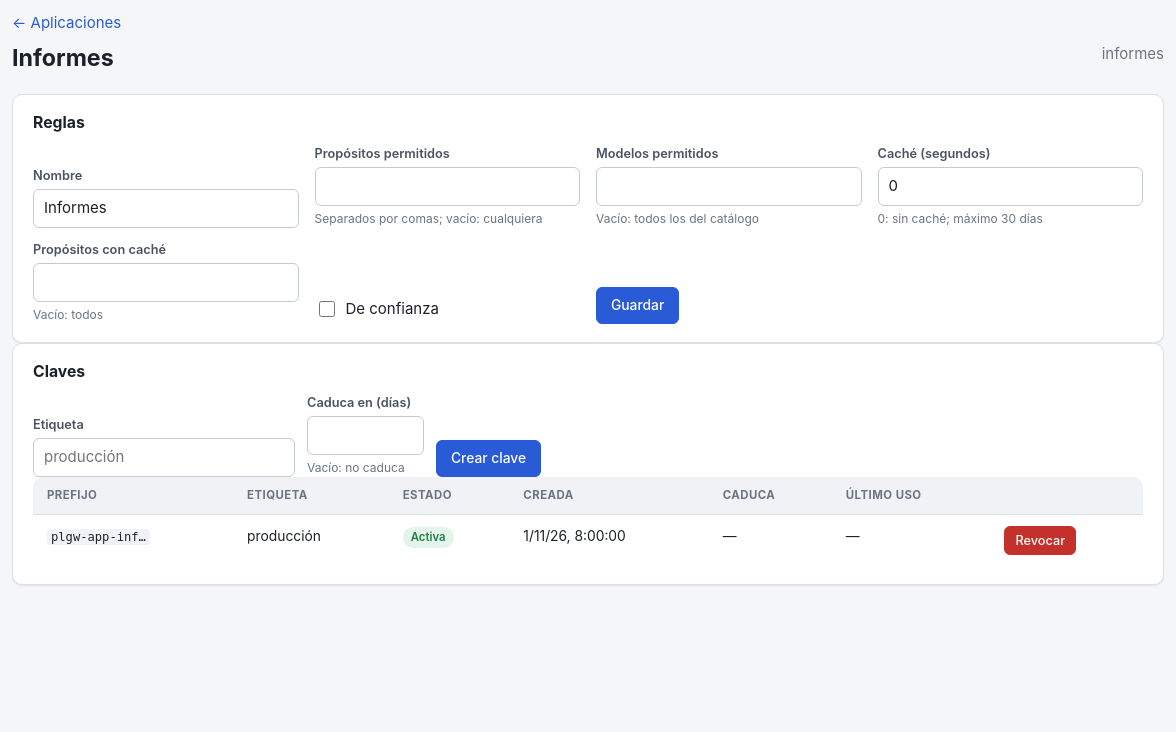
Test: detalle de una aplicación › revocar pide confirmación
This screenshot has width=1176, height=732.
Click the button "Revocar". click: (1040, 540)
box: [1004, 526, 1076, 555]
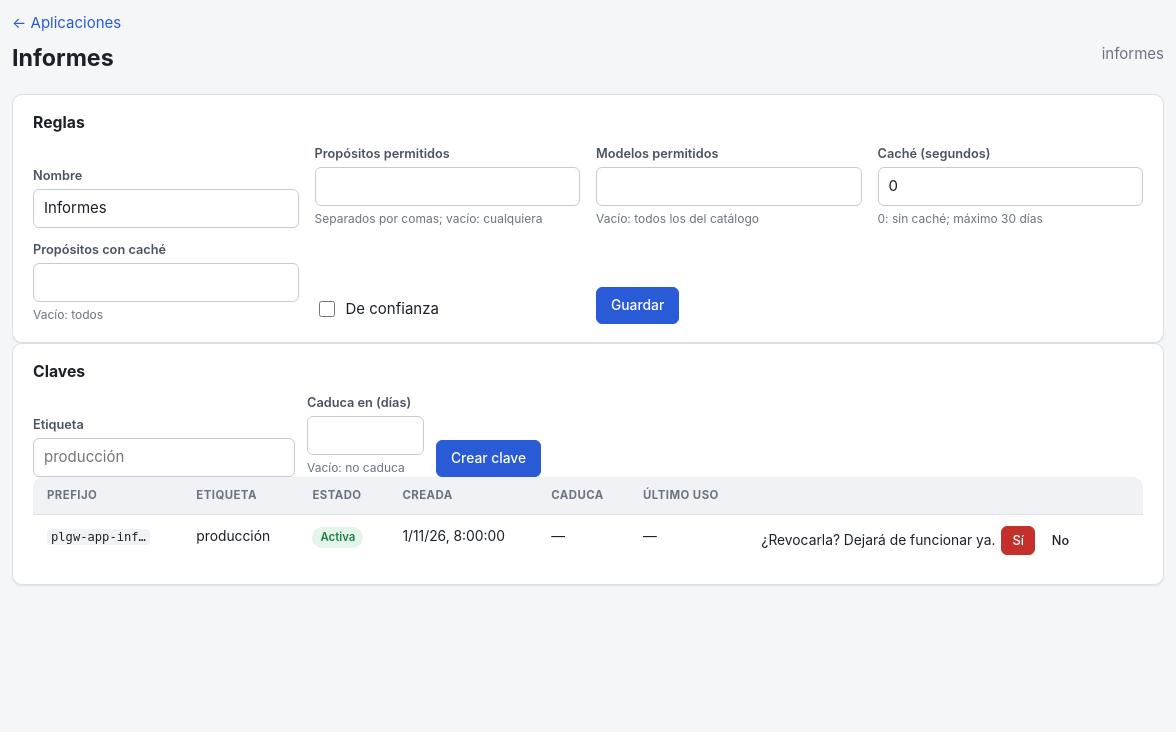
Click the button "Sí". click: (1018, 540)
box: [1001, 526, 1035, 555]
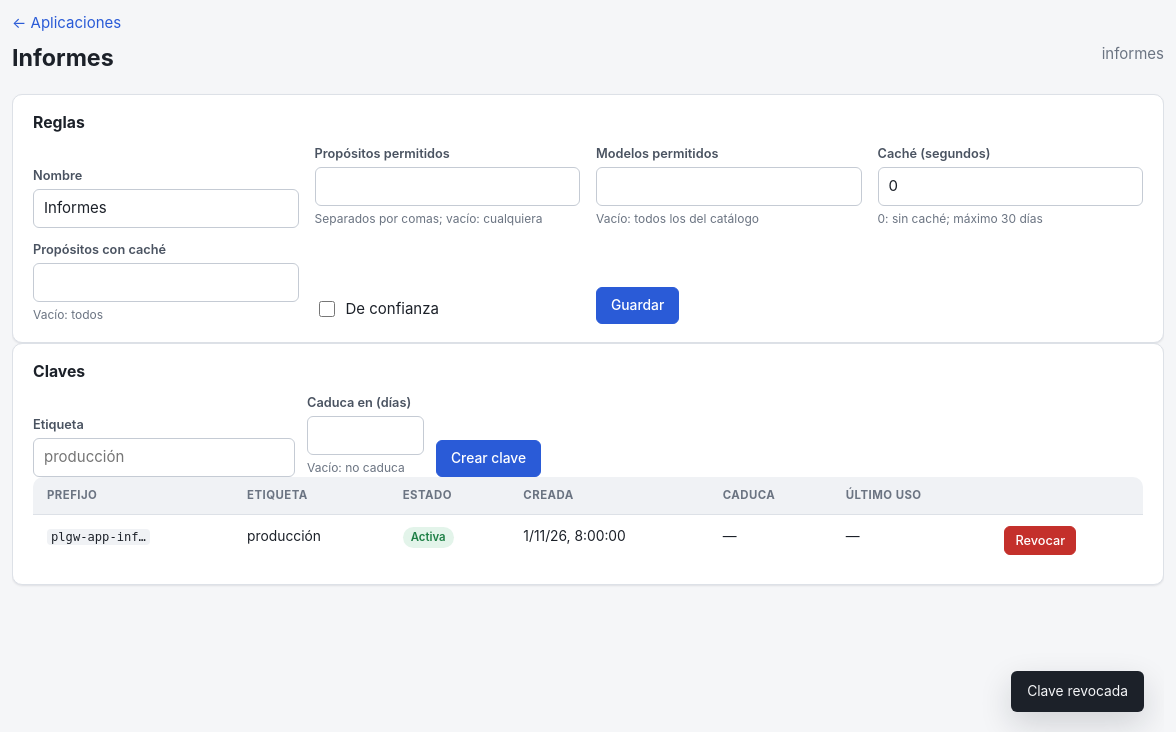
Expected: the text "Clave revocada" is shown, [1011, 671, 1144, 712]
